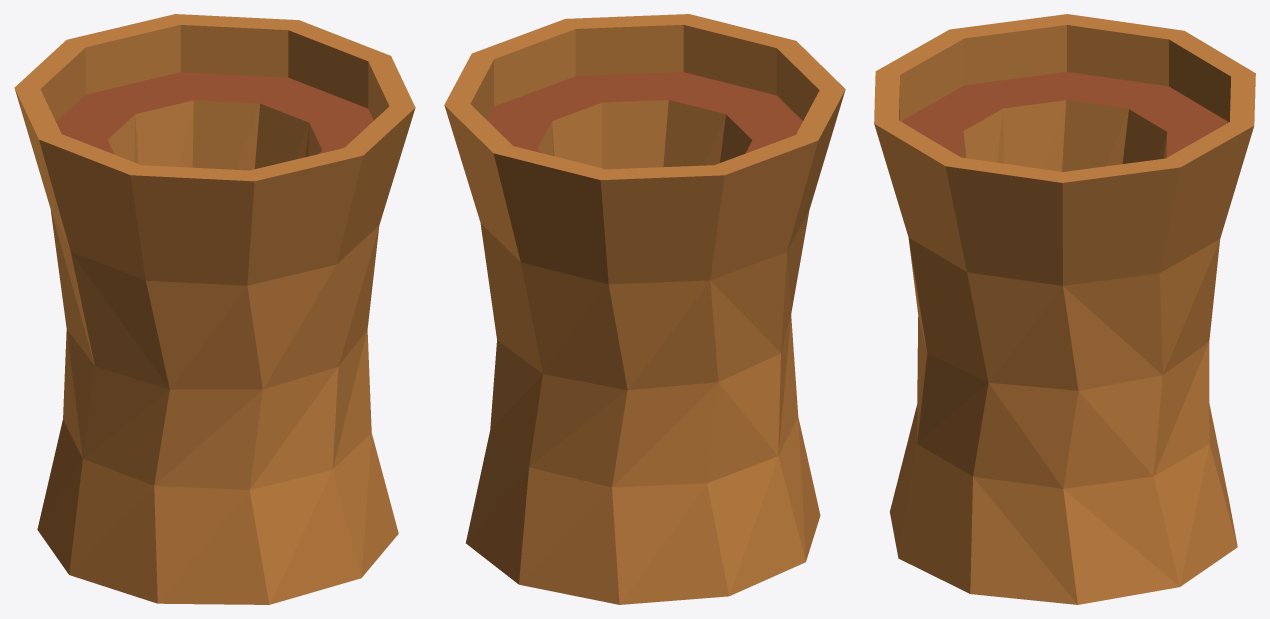
Rendered from Prop_Building_Savage_Tribal_Tower_Base_01.FBX.
3 views of the same model, side by side, from view 1: azimuth 30°, elevation 25°; view 2: azimuth 150°, elevation 25°; view 3: azimuth 270°, elevation 25° (orthographic).
Parts seen in each view (by area): view 1: Prop_Building_Savage_Tribal_Tower_Base_01; view 2: Prop_Building_Savage_Tribal_Tower_Base_01; view 3: Prop_Building_Savage_Tribal_Tower_Base_01.
Part boxes in pixels (left/top/right/bottom): Prop_Building_Savage_Tribal_Tower_Base_01: left=14, top=14, right=415, bottom=604; Prop_Building_Savage_Tribal_Tower_Base_01: left=444, top=14, right=845, bottom=604; Prop_Building_Savage_Tribal_Tower_Base_01: left=874, top=14, right=1255, bottom=604.
Size of the model in its own units: 6971 by 8270 by 6656.
